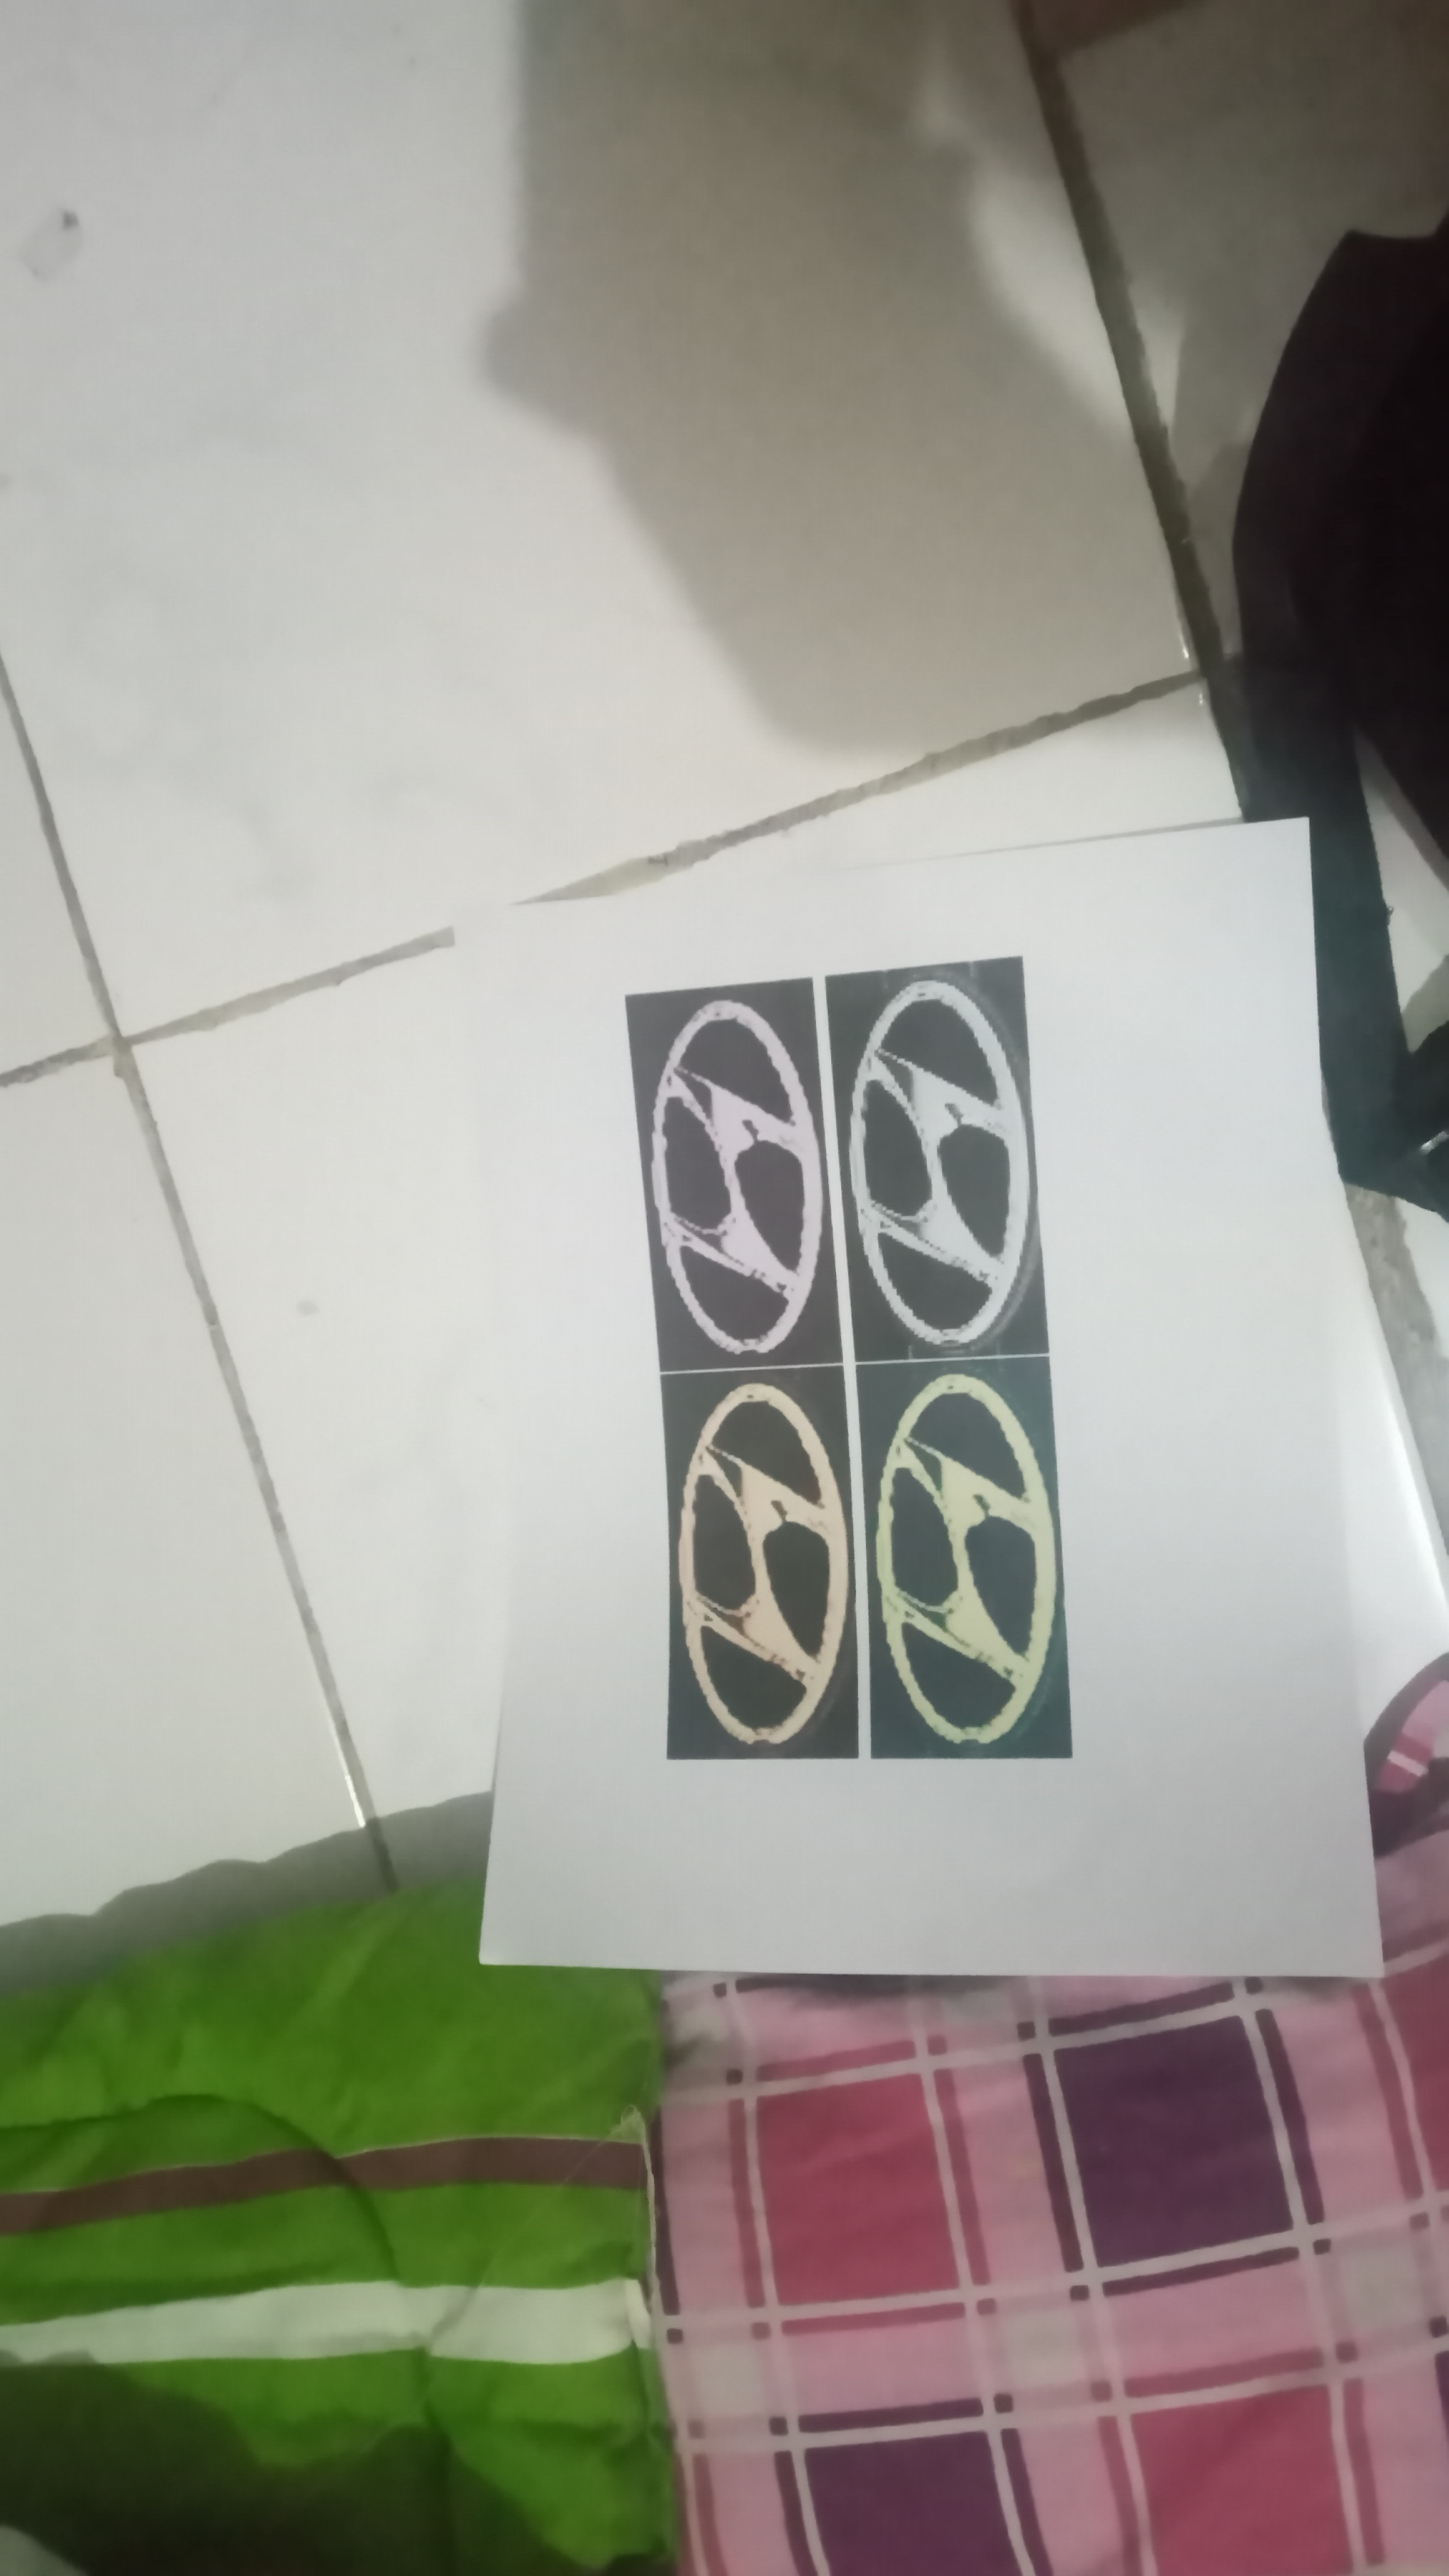Hyundai: (849, 959, 1058, 1389), (614, 970, 839, 1362), (635, 1376, 849, 1769), (886, 1369, 1083, 1773)
